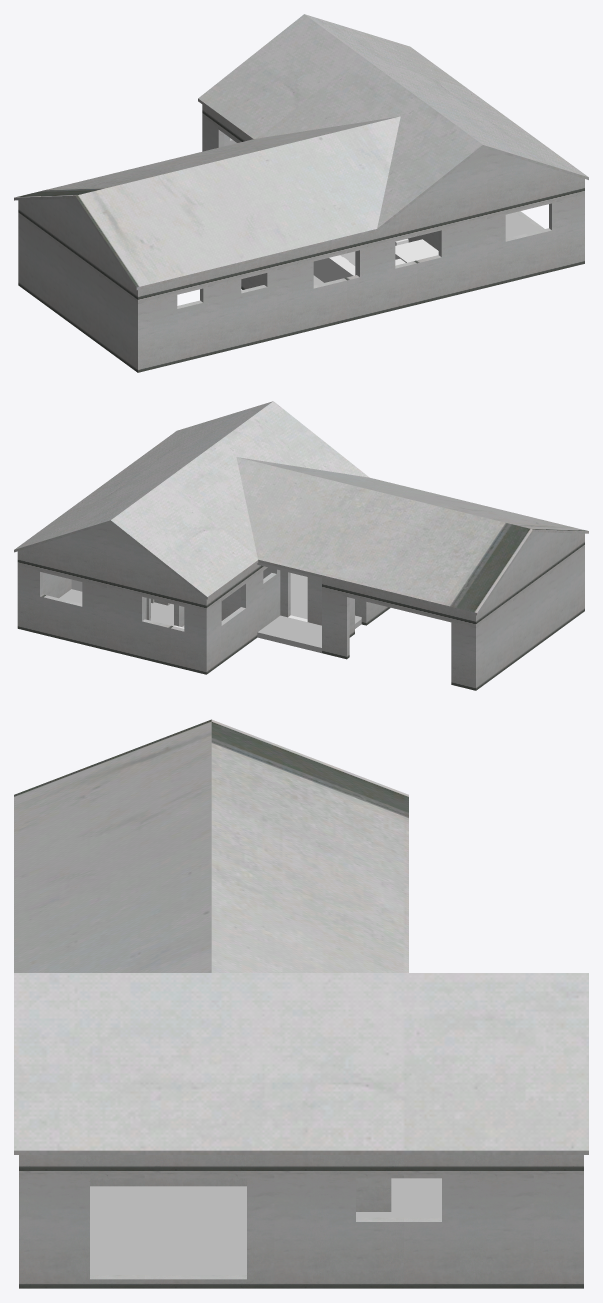
The model's file is housenode.gltf.
The picture shows the model from 3 angles, top to bottom: view 1: azimuth 30°, elevation 25°; view 2: azimuth 150°, elevation 25°; view 3: azimuth 270°, elevation 25°; orthographic projection. The views are drawn at different scales.
Parts seen in each view (by area): view 1: entity_0_geometry; view 2: entity_0_geometry; view 3: entity_0_geometry.
Part boxes in pixels (bbox=[...]): entity_0_geometry: bbox=[14, 14, 588, 372]; entity_0_geometry: bbox=[14, 401, 588, 690]; entity_0_geometry: bbox=[14, 719, 588, 1288].
Bounding box in the file's own units: 20.74 × 6.38 × 14.19.
